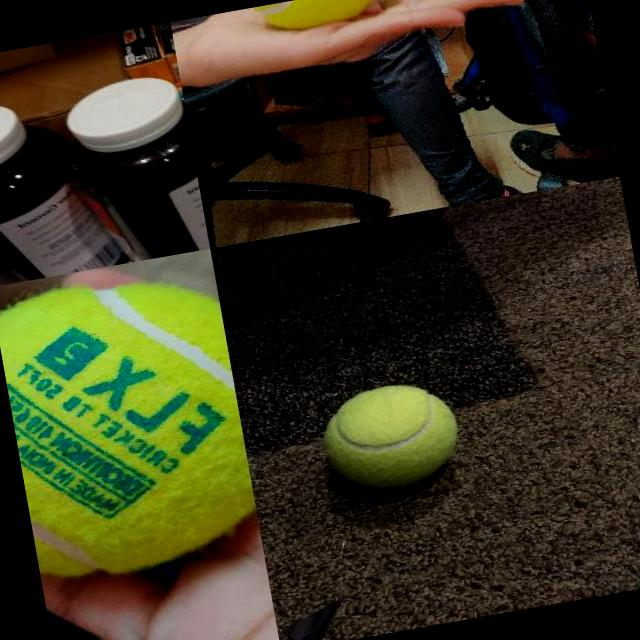Tennis Ball: (0, 265, 263, 586), (314, 372, 466, 498), (246, 0, 389, 34)
